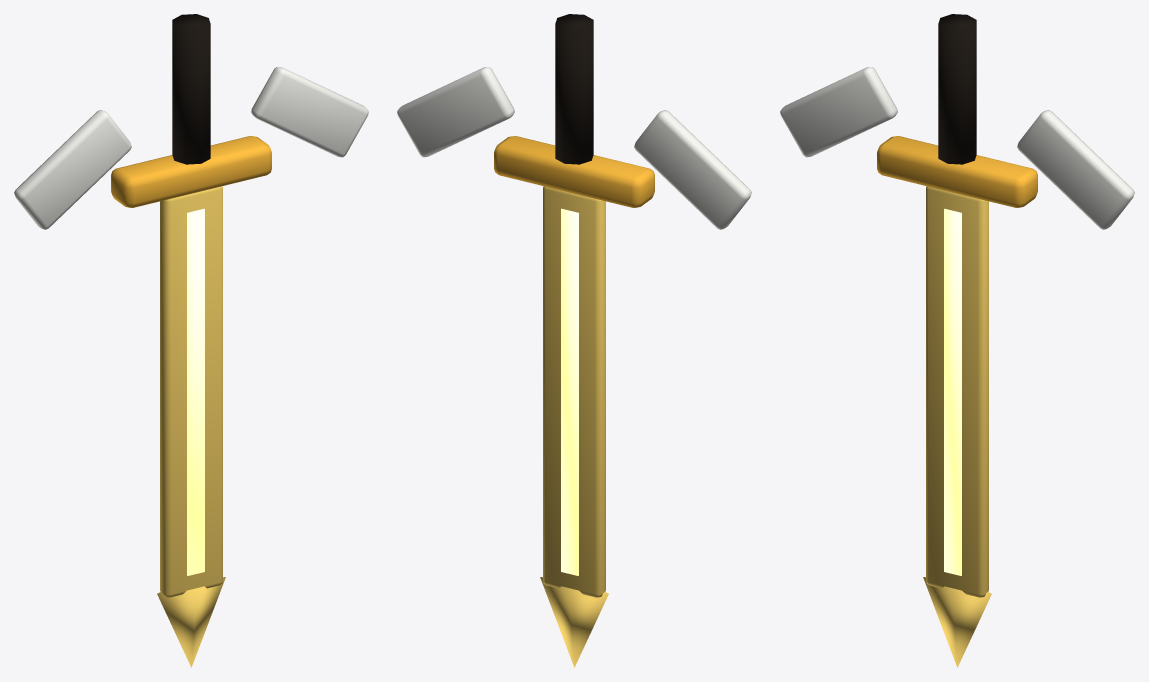
The model's file is weapon_assassino_lendaria.glb.
The picture shows the model from 3 angles, left to right: view 1: azimuth 30°, elevation 25°; view 2: azimuth 150°, elevation 25°; view 3: azimuth 330°, elevation 25°; orthographic projection.
Visible parts, largest first — view 1: weapon_assassino_lendaria; view 2: weapon_assassino_lendaria; view 3: weapon_assassino_lendaria.
Boxes of the visible parts, x1=… form: weapon_assassino_lendaria: x1=14, y1=14, x2=368, y2=667; weapon_assassino_lendaria: x1=397, y1=14, x2=751, y2=667; weapon_assassino_lendaria: x1=780, y1=14, x2=1134, y2=667.
Size of the model in its own units: 0.7099 by 1.25 by 0.07.
